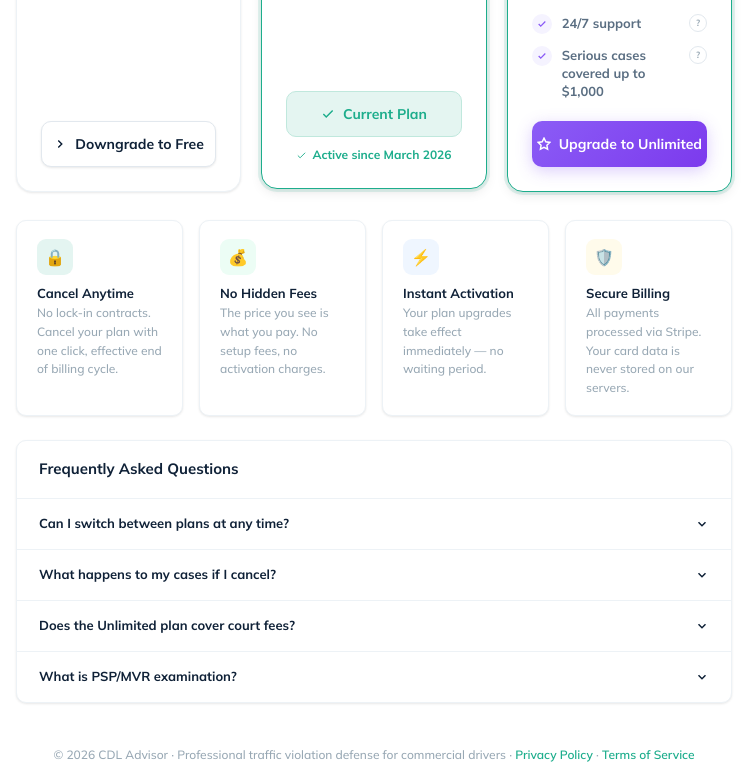
Test: SubscriptionManagementComponent › FAQ accordion › should collapse answer when clicking same question
(page scrolled)
Click the button with class "faq-item" that starts with "Can I switch between plans at any time?".
click(164, 523)  # box [17,499,731,550]
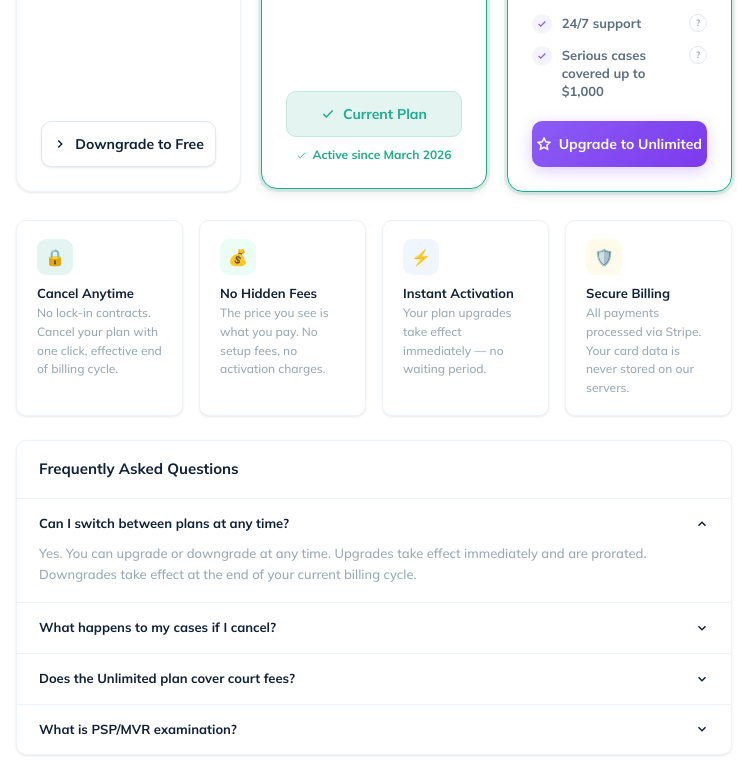
Click the button with class "faq-item" that starts with "Can I switch between plans at any time?".
click(374, 551)  # box [17,499,731,603]
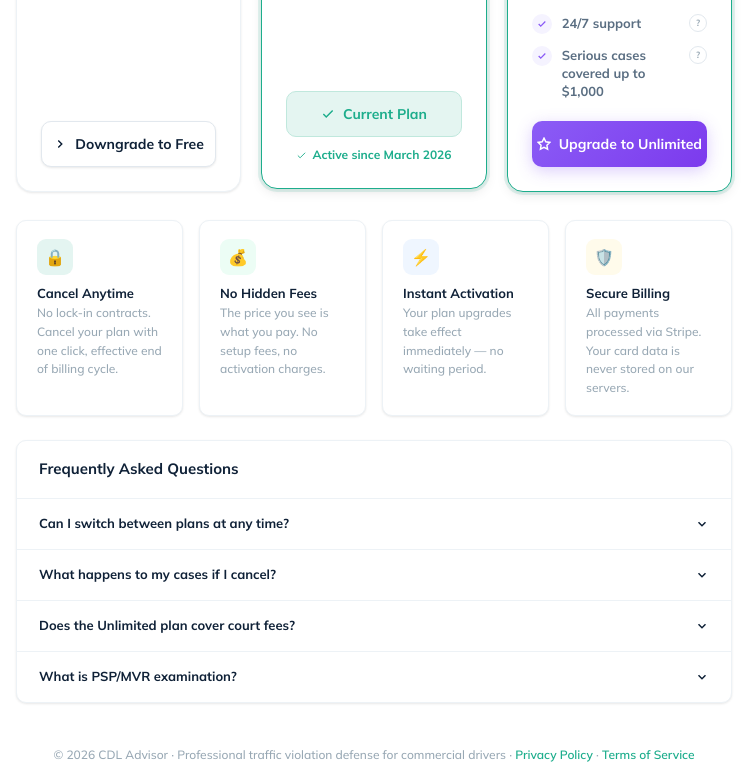
Result: no elements with class "faq-a" are shown
